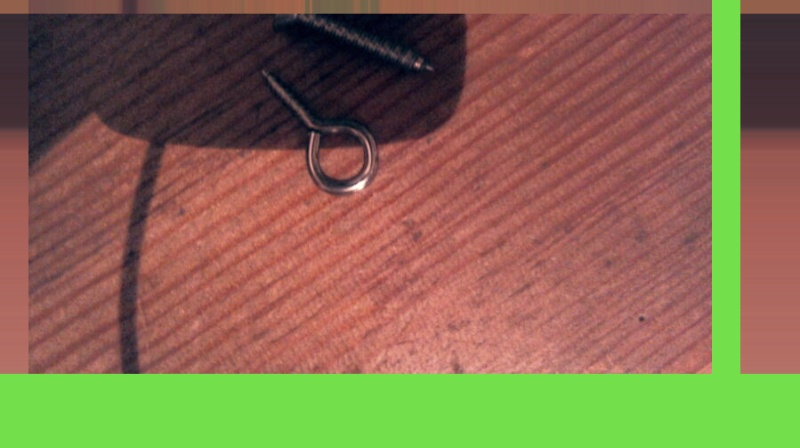O001: (259, 64, 378, 195)
S001: (271, 0, 436, 73)
